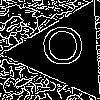O: (39, 26, 87, 74)
